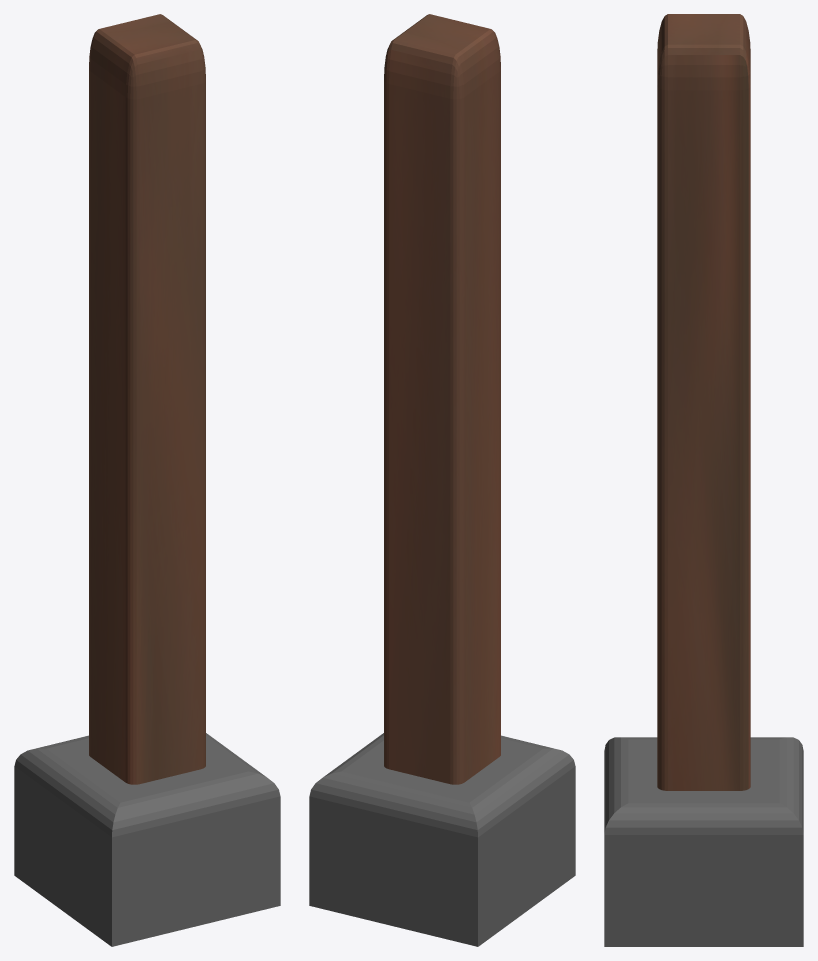
Rendered from Pine_House_Post.fbx.
3 views of the same model, side by side, from view 1: azimuth 30°, elevation 25°; view 2: azimuth 150°, elevation 25°; view 3: azimuth 270°, elevation 25° (orthographic). The views are drawn at different scales.
Parts seen in each view (by area): view 1: Cube.001; view 2: Cube.001; view 3: Cube.001.
Boxes of the visible parts, x1,y1,x2,y2 form: Cube.001: [14, 14, 280, 946]; Cube.001: [309, 14, 575, 946]; Cube.001: [604, 14, 803, 946].
Size of the model in its own units: 2 by 2 by 9.7.
Materials: 2 (1 with a texture image).
